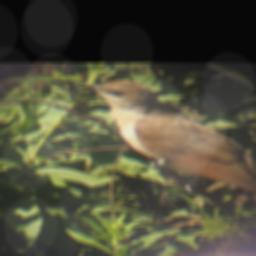Cuckoo: (76, 79, 256, 221)
